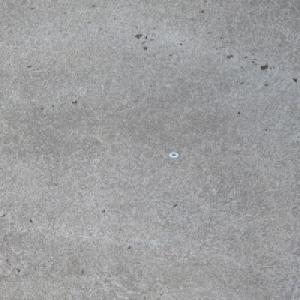Washer: (168, 151, 179, 158)
